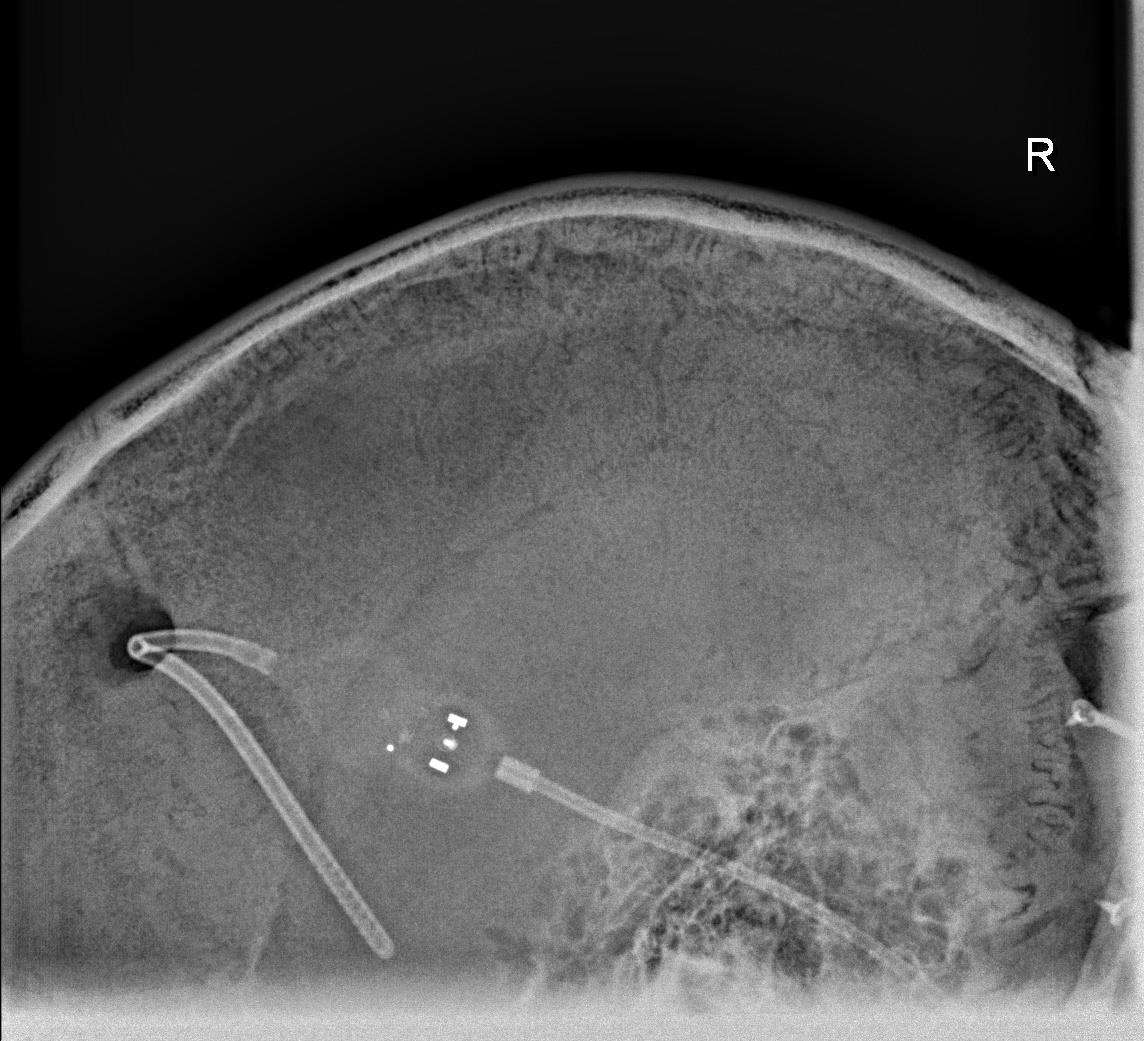Codman Certas: (370, 686, 511, 801)
